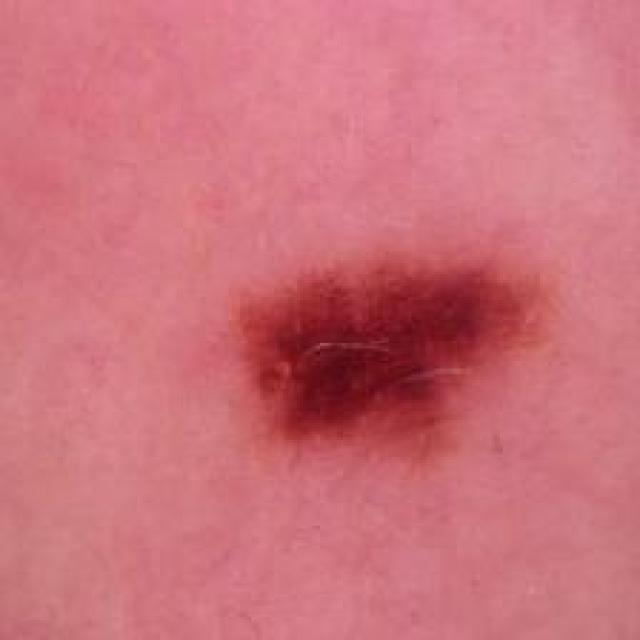Cancer: (226, 245, 543, 466)
